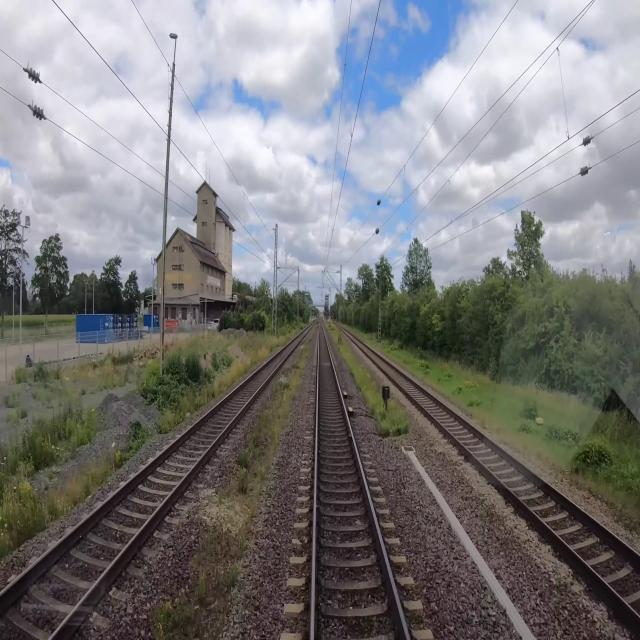Plant: (186, 343, 309, 607), (326, 323, 409, 437), (152, 600, 195, 639)
